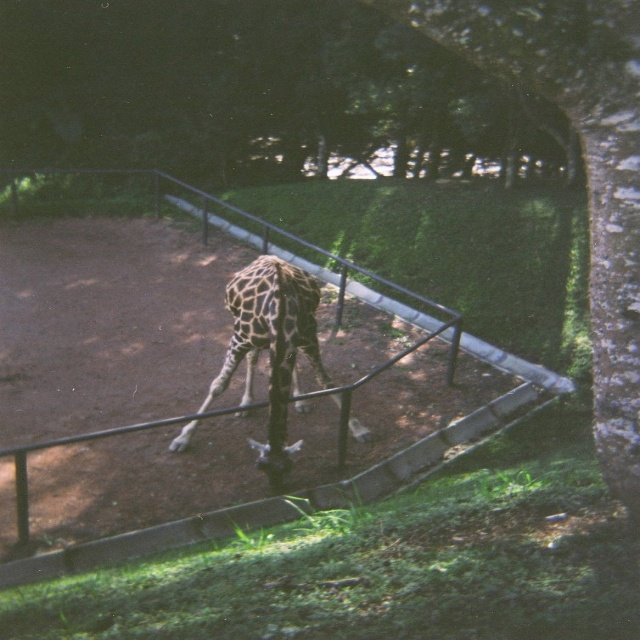Giraffe: (170, 255, 377, 490)
